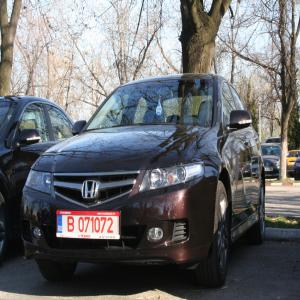Vehicle-registration-plate: (58, 211, 121, 240)
